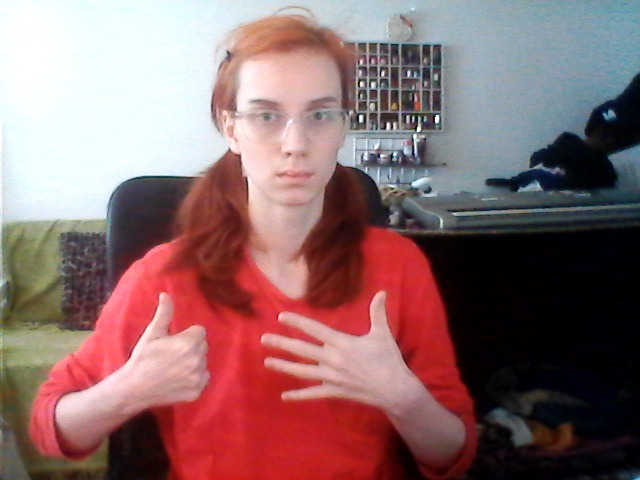sest: (133, 288, 410, 432)
